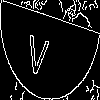V: (25, 25, 51, 78)
